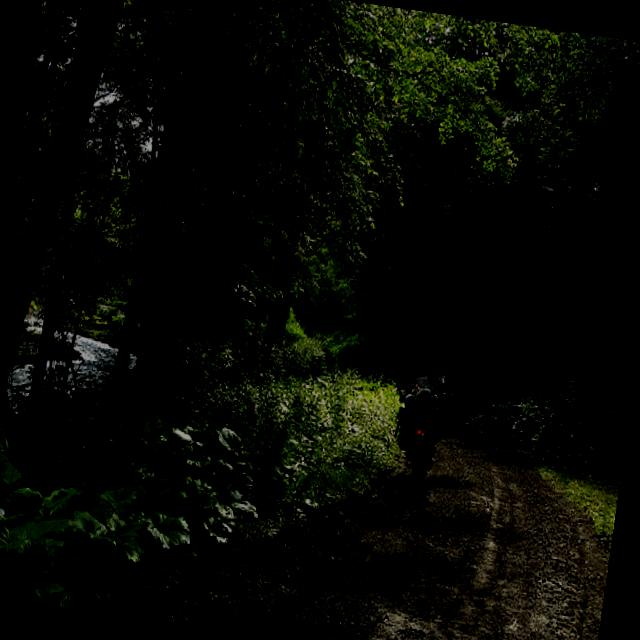Vehicle: (386, 373, 450, 497)
